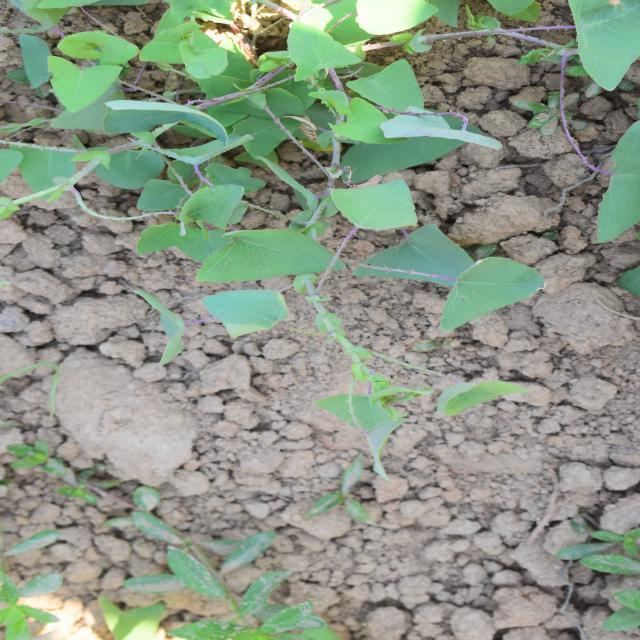Asiatic_Smartweed: (278, 129, 476, 533), (458, 68, 604, 431), (179, 320, 288, 546)
